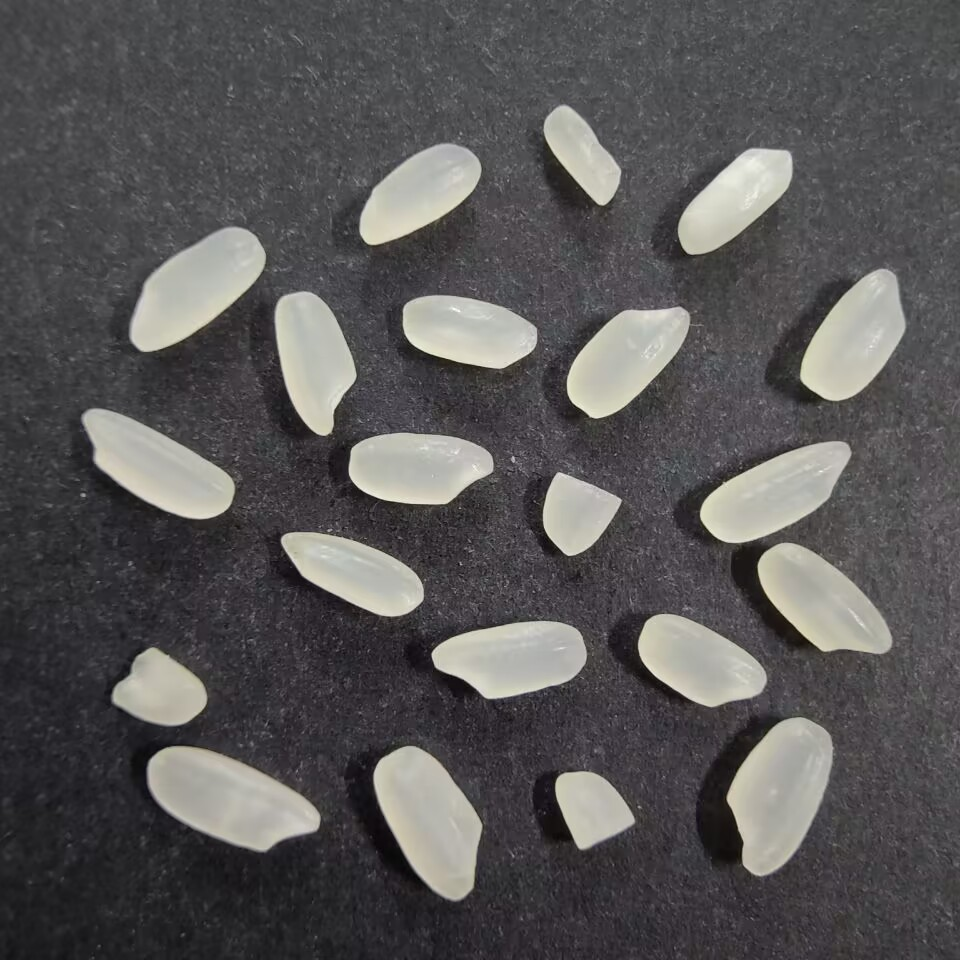broken: (108, 643, 211, 727), (542, 101, 623, 207), (538, 469, 625, 562), (548, 764, 636, 855)
rice: (143, 743, 321, 854), (78, 402, 238, 524), (371, 743, 485, 910), (125, 223, 266, 355), (728, 715, 839, 881), (696, 438, 855, 543), (758, 541, 897, 660), (794, 266, 912, 402), (560, 304, 693, 420), (675, 145, 798, 263), (354, 141, 484, 250), (272, 527, 423, 620), (428, 616, 589, 701), (269, 291, 358, 443), (637, 610, 768, 710), (344, 426, 495, 509), (395, 294, 541, 372)
